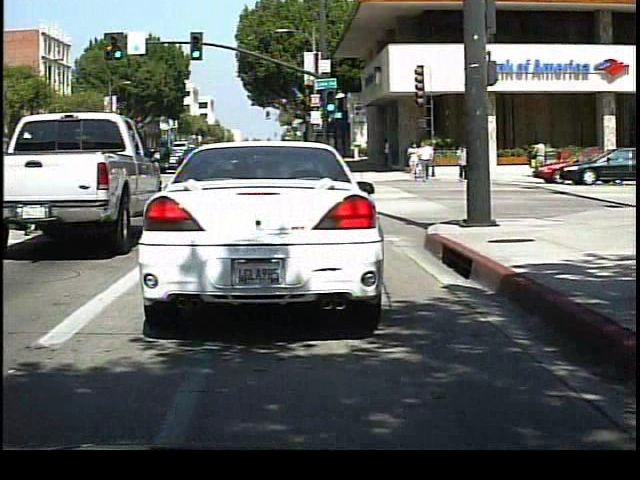person: (418, 137, 436, 184), (529, 136, 550, 176), (453, 137, 471, 182), (408, 141, 422, 183)
